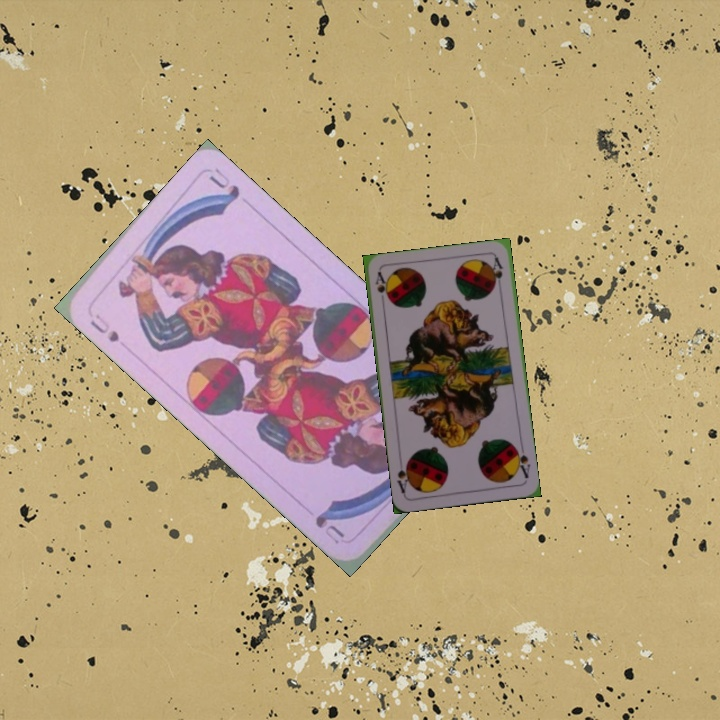SA: (511, 441, 533, 481), (371, 268, 391, 303)
SU: (86, 309, 122, 345)
